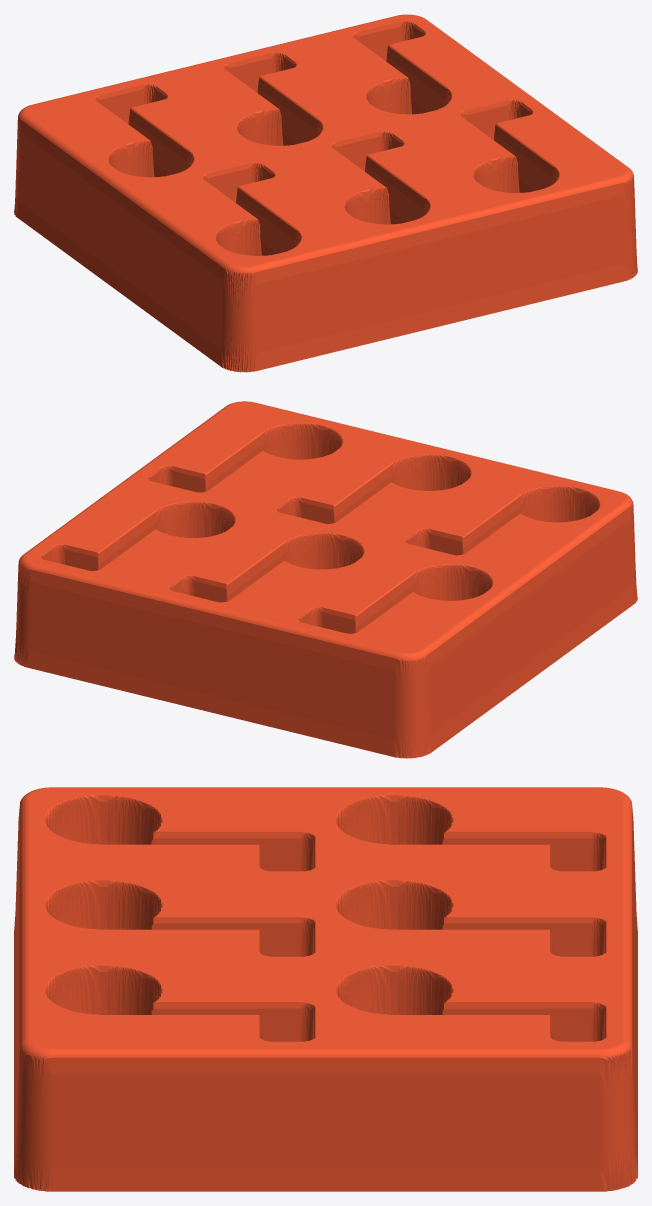
File: mold.glb
3 views of the same model, one above another, from view 1: azimuth 30°, elevation 25°; view 2: azimuth 150°, elevation 25°; view 3: azimuth 270°, elevation 25° (orthographic). The views are drawn at different scales.
Visible parts, largest first — view 1: geometry_0; view 2: geometry_0; view 3: geometry_0.
Part boxes in pixels (<box>): geometry_0: <box>14,14,637,372</box>; geometry_0: <box>14,401,637,758</box>; geometry_0: <box>14,787,637,1191</box>.
Size of the model in its own units: 0.1546 by 0.036 by 0.1492.
